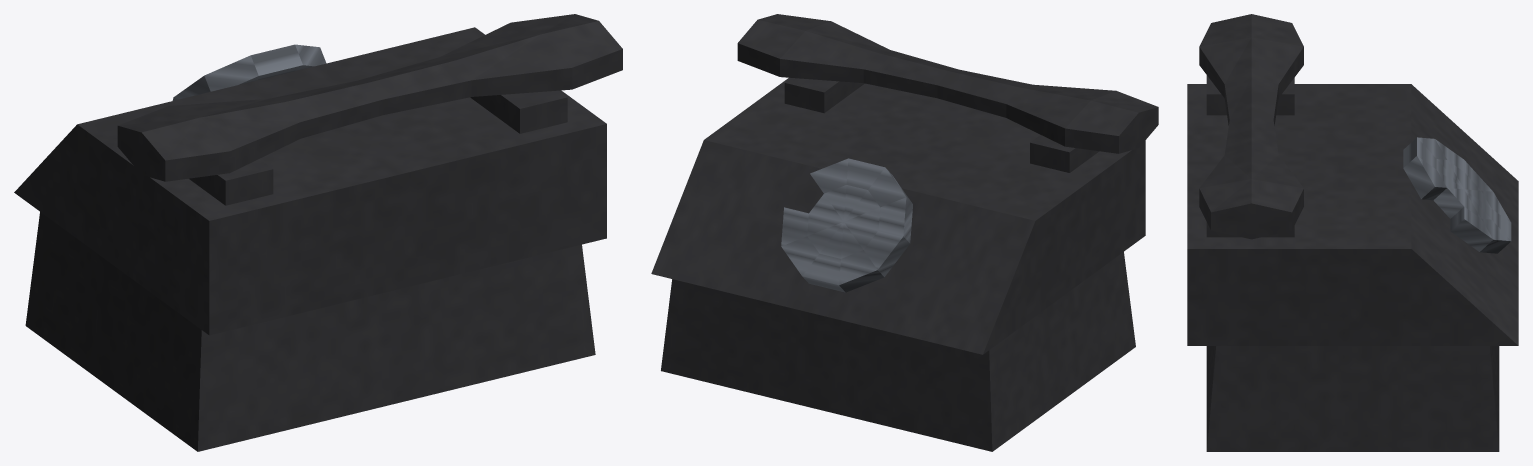
The model's file is telephone.fbx.
The picture shows the model from 3 angles, left to right: view 1: azimuth 30°, elevation 25°; view 2: azimuth 150°, elevation 25°; view 3: azimuth 270°, elevation 25°; orthographic projection. The views are drawn at different scales.
Visible parts, largest first — view 1: telephone; view 2: telephone; view 3: telephone.
Boxes of the visible parts, left/top/right/bottom form: telephone: left=14, top=14, right=622, bottom=451; telephone: left=651, top=14, right=1158, bottom=451; telephone: left=1187, top=14, right=1518, bottom=451.
Size of the model in its own units: 23 by 14.8 by 17.
